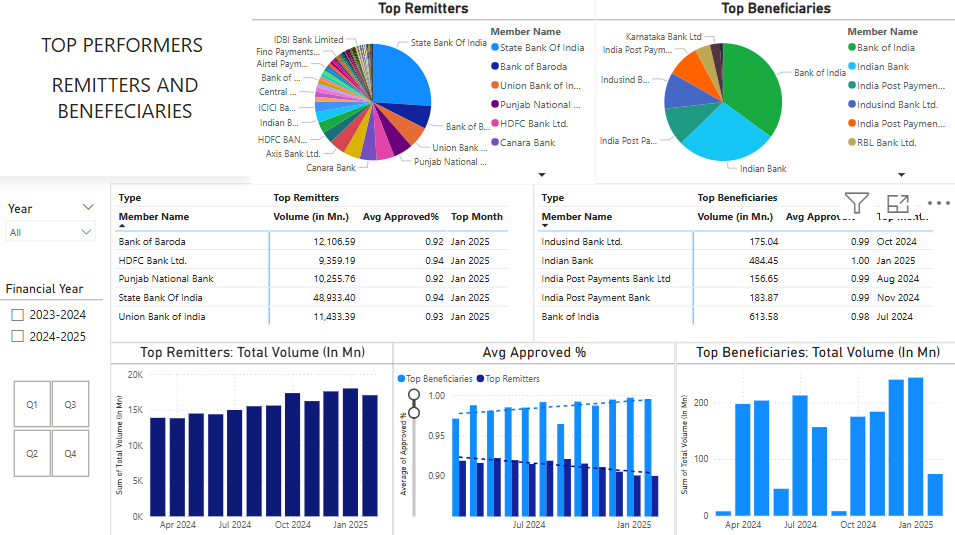

This screenshot's page, from the dashboard's own definition file:
{"tool":"powerbi","page":{"name":"Top Performers","canvas":[1280,720],"ordinal":3},"visuals":[{"type":"slicer","title":"Financial Year","fields":{"Values":["DF Top Performers.Financial Year"]},"box":[0,376.7,140,125],"z":5000},{"type":"slicer","fields":{"Values":["DF Top Performers.Quarter (Financial Year)"]},"box":[0,501.7,140,141.7],"z":6000},{"type":"slicer","fields":{"Values":["DF Top Performers.Year"]},"box":[0,263.3,140,76.7],"z":7000},{"type":"pivotTable","fields":{"Rows":["DF Top Performers.Member Name"],"Values":["Assist Top P.TotalVolumePerMember","Assist Top P.AvgApprovedRemitters","Assist Top P.TopMonthRemitters"],"Columns":["DF Top Performers.Type"]},"box":[150,246.5,565,211.7],"z":8000},{"type":"clusteredColumnChart","title":"Top Beneficiaries: Total Volume (In Mn)","fields":{"Y":["Sum(DF Top Performers.Total Volume (In Mn))"],"Category":["DF Top Performers.Month"]},"box":[903.3,458.3,376.7,261.7],"z":9000},{"type":"clusteredColumnChart","title":"Avg Approved %","fields":{"Y":["Avg(DF Top Performers.Approved %)"],"Category":["DF Top Performers.Month"],"Series":["DF Top Performers.Type"]},"box":[526.7,458.3,376.7,261.7],"z":10000},{"type":"clusteredColumnChart","title":"Top Remitters: Total Volume (In Mn)","fields":{"Category":["DF Top Performers.Month"],"Y":["Sum(DF Top Performers.Total Volume (In Mn))"]},"box":[149.7,458.1,377,262.5],"z":11000},{"type":"pivotTable","fields":{"Rows":["DF Top Performers.Member Name"],"Values":["Assist Top P.TotalVolumeBeneficiaries","Assist Top P.AvgApprovedBeneficiaries","Assist Top P.TopMonthBeneficiaries"],"Columns":["DF Top Performers.Type"]},"box":[715,246.5,565,211.7],"z":12000},{"type":"textbox","box":[0,0,338.3,236.7],"z":13000},{"type":"pieChart","title":"Top Beneficiaries","fields":{"Category":["DF Top Performers.Member Name"],"Y":["Sum(DF Top Performers.Total Volume (In Mn))"]},"box":[796.7,0,483.3,246.7],"z":13001},{"type":"pieChart","title":"Top Remitters","fields":{"Category":["DF Top Performers.Member Name"],"Y":["Sum(DF Top Performers.Total Volume (In Mn))"]},"box":[338.3,0,458.3,246.7],"z":13002}]}

Visuals, with their boxes in screenshot pixels (x1, y1, x2, y2), scaled from the page's 1280x720 canvas onto the 955x535 screenshot:
"Financial Year" slicer: Rect(0, 280, 104, 373)
slicer - DF Top Performers.Quarter (Financial Year): Rect(0, 373, 104, 478)
slicer - DF Top Performers.Year: Rect(0, 196, 104, 253)
pivotTable - DF Top Performers.Member Name x Assist Top P.TotalVolumePerMember: Rect(112, 183, 533, 340)
"Top Beneficiaries: Total Volume (In Mn)" clusteredColumnChart: Rect(674, 341, 954, 534)
"Avg Approved %" clusteredColumnChart: Rect(393, 341, 674, 534)
"Top Remitters: Total Volume (In Mn)" clusteredColumnChart: Rect(112, 340, 393, 534)
pivotTable - DF Top Performers.Member Name x Assist Top P.TotalVolumeBeneficiaries: Rect(533, 183, 954, 340)
textbox: Rect(0, 0, 252, 176)
"Top Beneficiaries" pieChart: Rect(594, 0, 954, 183)
"Top Remitters" pieChart: Rect(252, 0, 594, 183)
